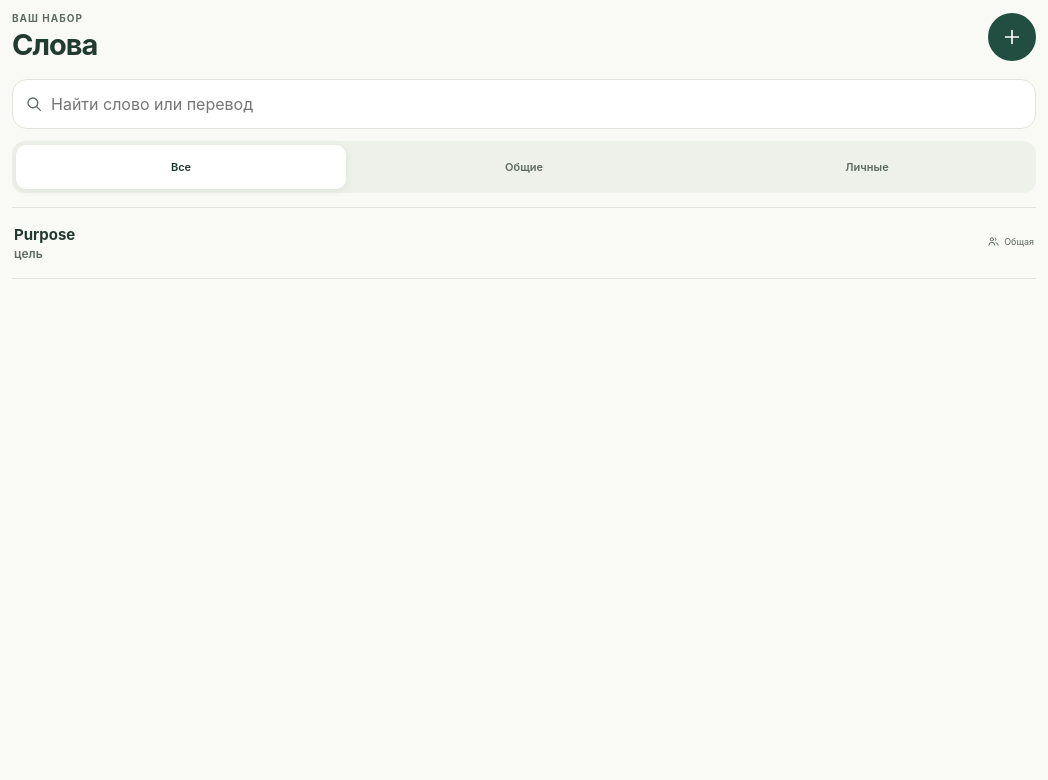
Test: opens a read-only card when the user cannot edit it
Click the button with aria-label "Открыть карточку Purpose": (45, 234) [14, 219, 975, 267]
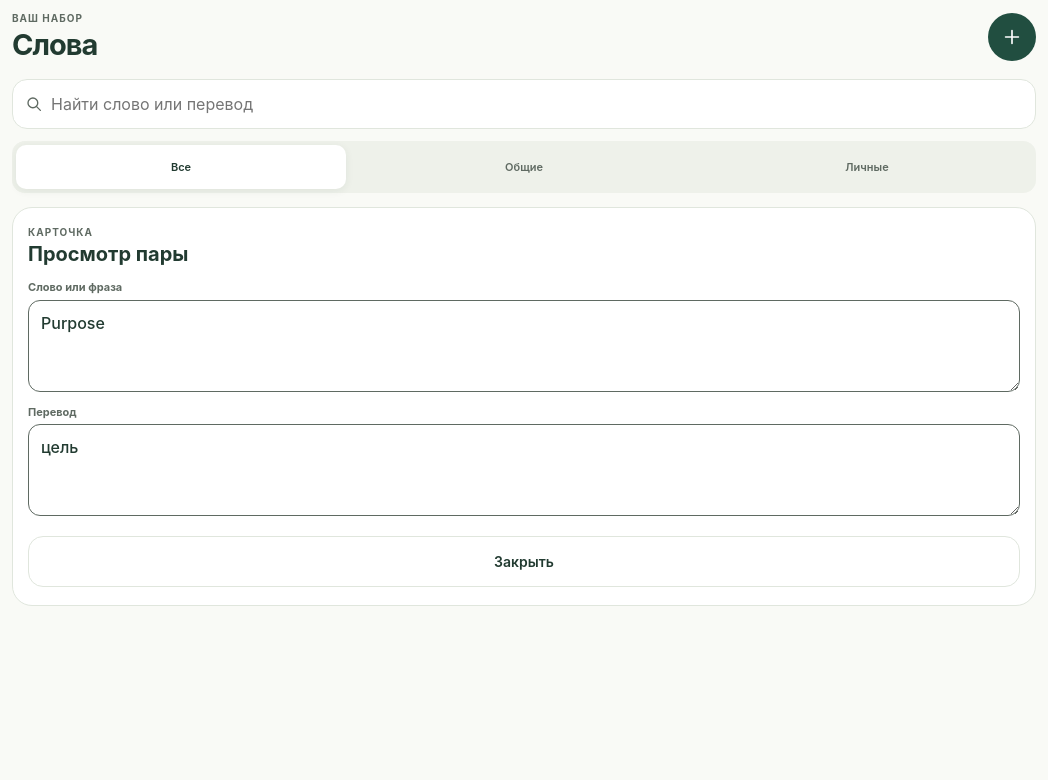
Check: the heading "Просмотр пары" is shown, box [28, 242, 188, 266]
Click the button "Закрыть": (524, 562) [28, 536, 1020, 587]
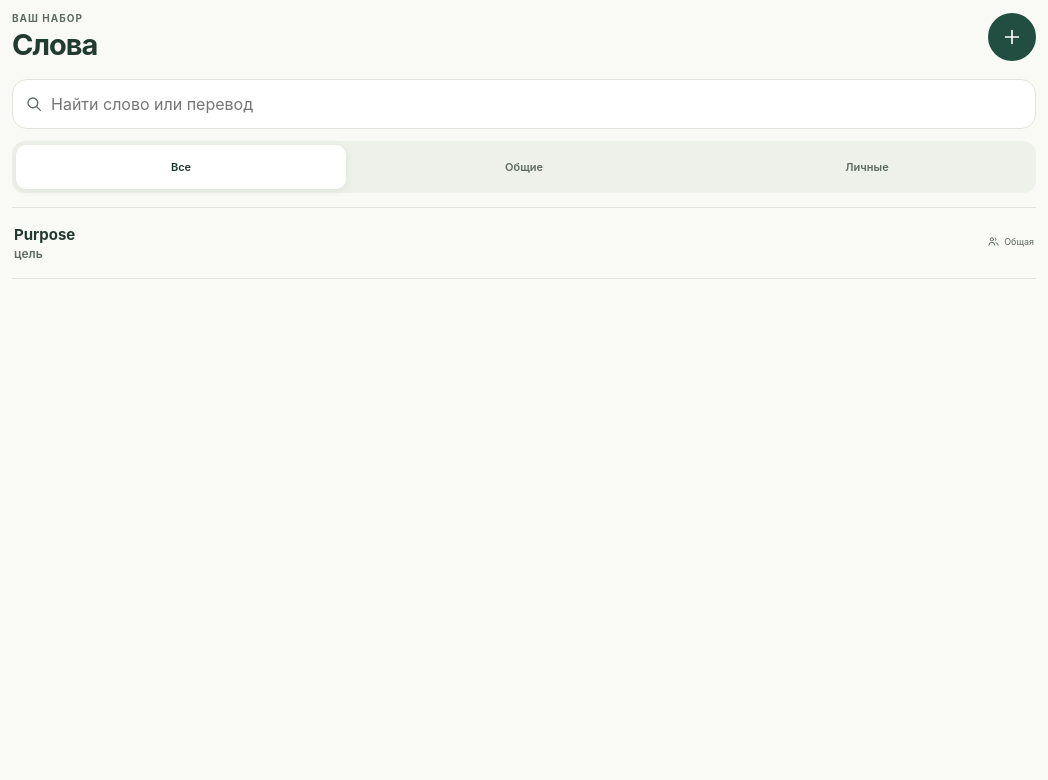
Check: the text "Purpose" is shown, box [14, 224, 75, 244]
